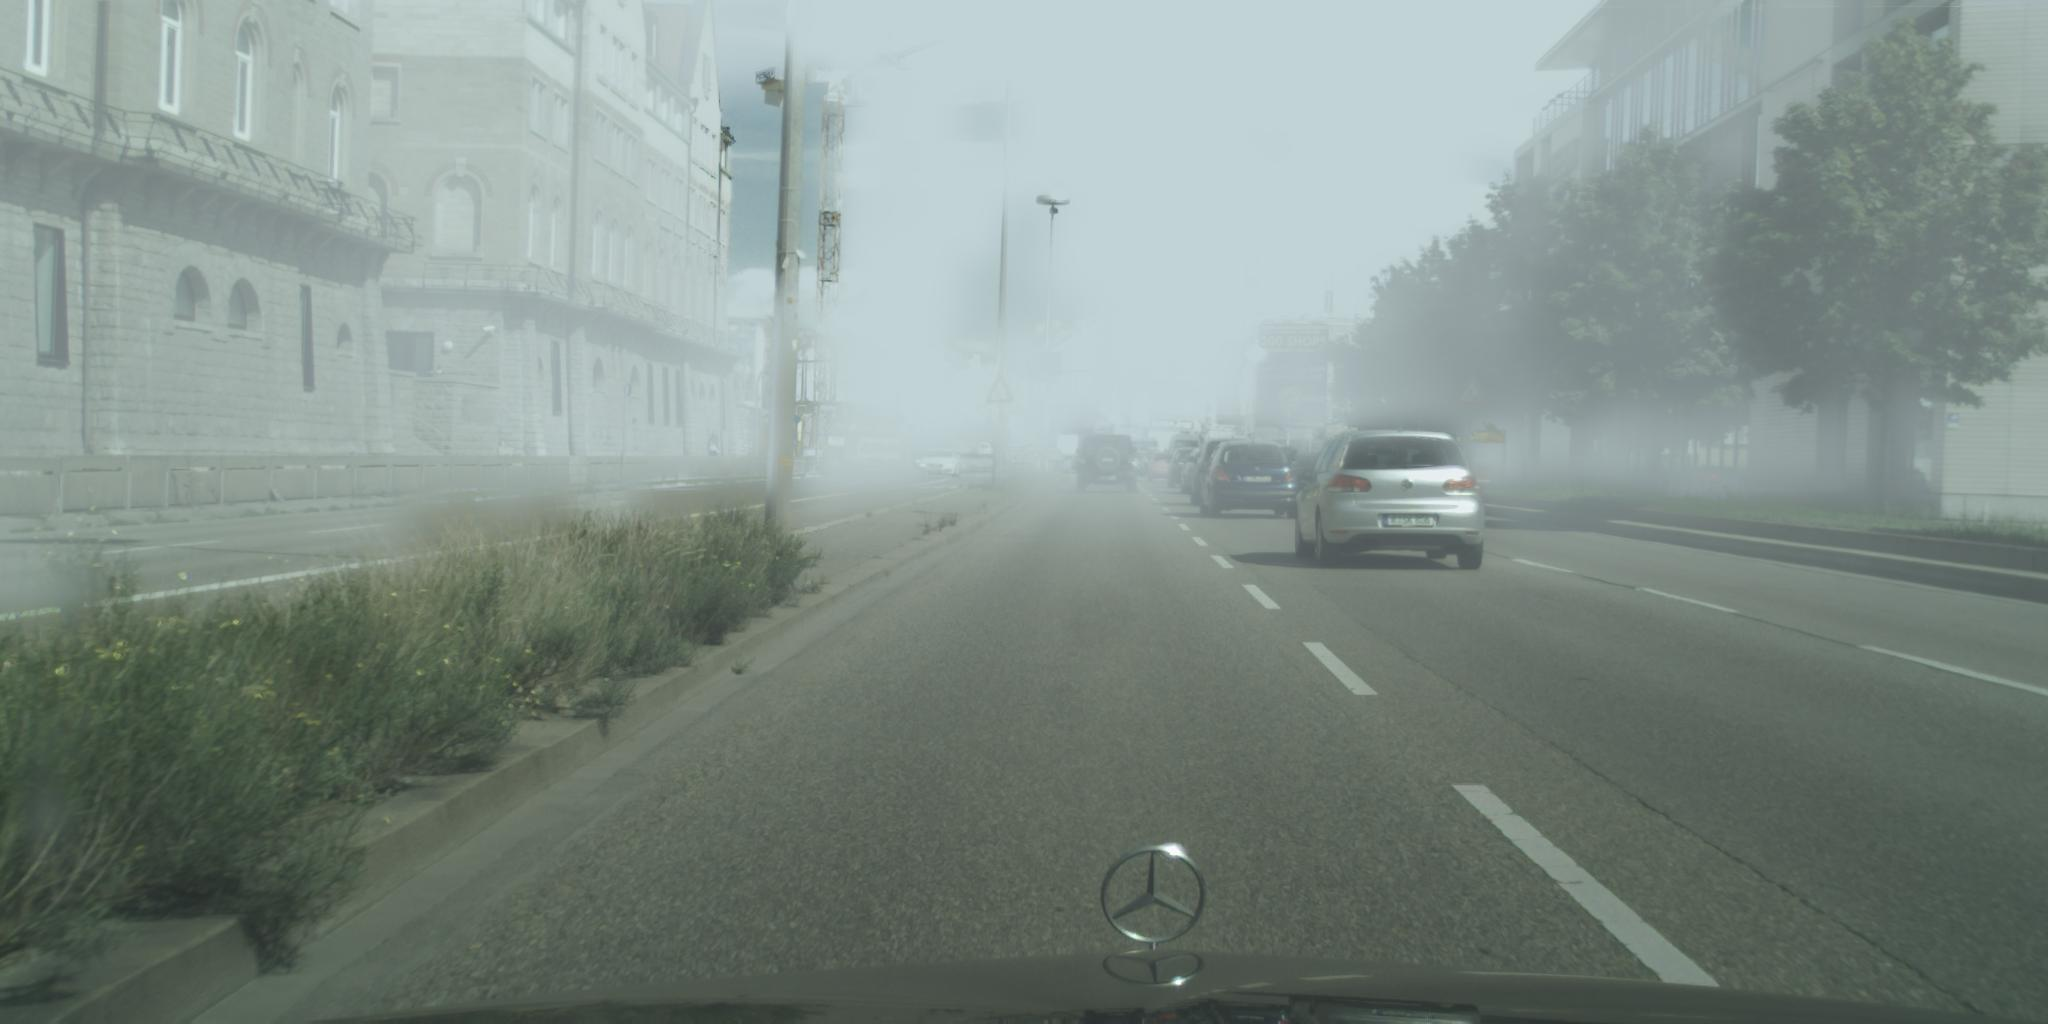car: (1294, 431, 1486, 569), (1203, 441, 1304, 519), (1076, 435, 1138, 492), (1191, 440, 1236, 505), (913, 448, 963, 478), (1169, 449, 1198, 488), (1293, 453, 1323, 487), (1179, 451, 1202, 494), (1148, 452, 1174, 481), (1169, 435, 1200, 455), (1057, 455, 1078, 475), (1114, 426, 1149, 438)
